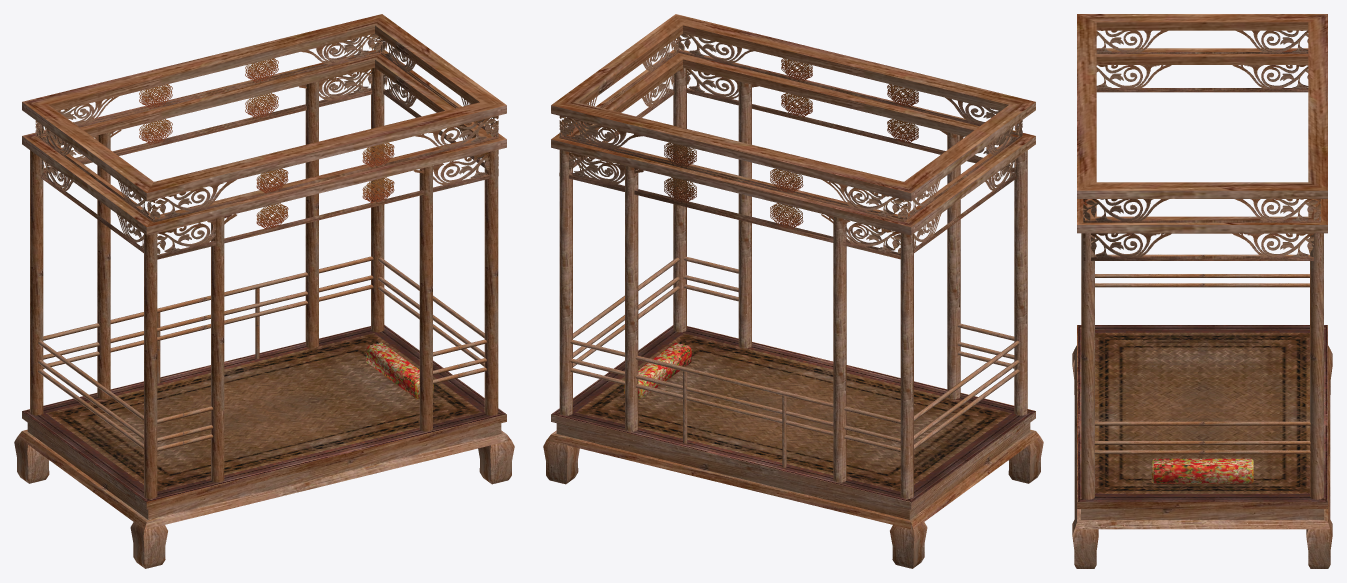
Rendered from Bed_1.FBX.
3 views of the same model, side by side, from view 1: azimuth 30°, elevation 25°; view 2: azimuth 150°, elevation 25°; view 3: azimuth 270°, elevation 25° (orthographic).
Parts seen in each view (by area): view 1: Bed_1; view 2: Bed_1; view 3: Bed_1.
Part boxes in pixels (bbox=[...]): Bed_1: bbox=[14, 14, 514, 568]; Bed_1: bbox=[543, 14, 1043, 568]; Bed_1: bbox=[1072, 14, 1332, 568].
Bounding box in the file's own units: 90.54 × 87.46 × 54.65.
